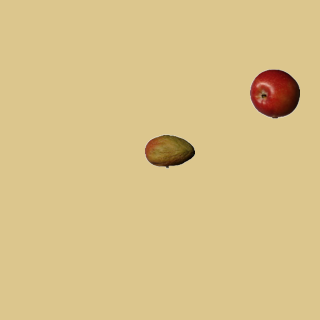Apple Braeburn: (249, 68, 299, 118)
Papaya: (144, 126, 194, 176)
